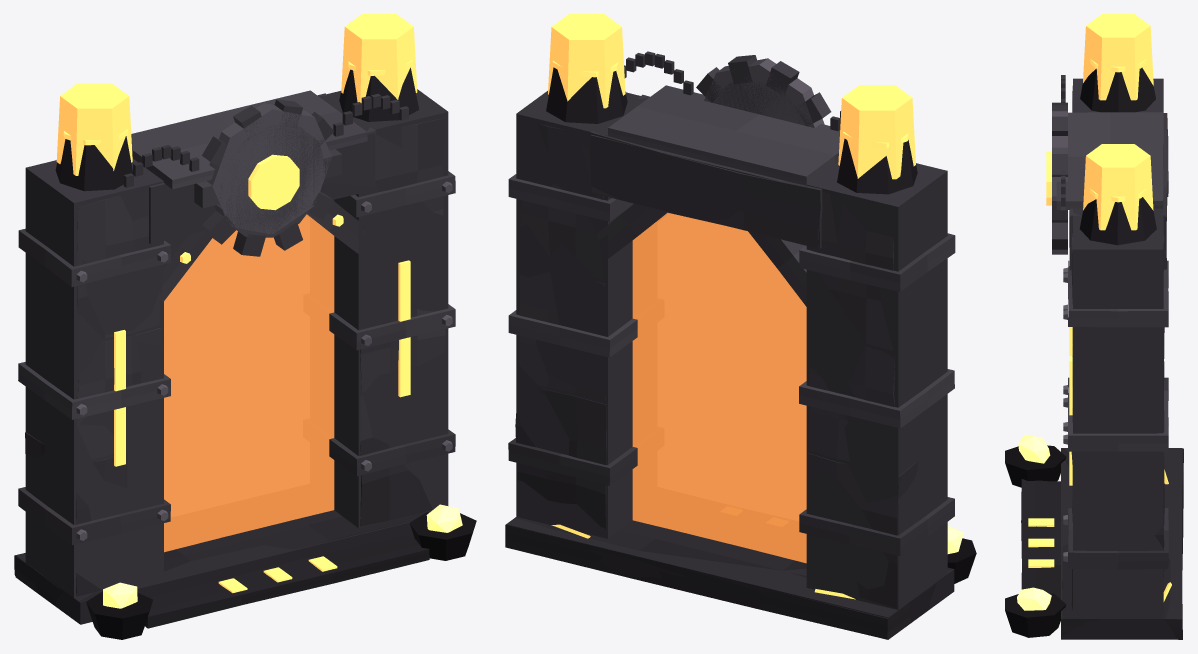
Rendered from portal_foundry.glb.
3 renders of one model, left to right at view 1: azimuth 30°, elevation 25°; view 2: azimuth 150°, elevation 25°; view 3: azimuth 270°, elevation 25°, orthographic. The views are drawn at different scales.
Visible parts, largest first — view 1: Far_Body, Surface_Far, Surface_Near, Pillar_L, Pillar_R, Base, Motif_Gear, Lintel, Motif_Braziers, Motif_Chains; view 2: Far_Body, Surface_Far, Surface_Near, Pillar_L, Pillar_R, Lintel, Base, Motif_Gear, Motif_Braziers, Motif_Chains; view 3: Far_Body, Pillar_R, Base, Lintel, Motif_Braziers, Pillar_L, Motif_Gear, Motif_Chains.
Part boxes in pixels (left/top/right/bottom): Far_Body: left=15, top=14, right=448, bottom=624; Surface_Far: left=164, top=214, right=334, bottom=551; Surface_Near: left=164, top=215, right=334, bottom=552; Pillar_L: left=18, top=129, right=170, bottom=596; Pillar_R: left=329, top=60, right=455, bottom=526; Base: left=14, top=510, right=431, bottom=628; Motif_Gear: left=194, top=99, right=341, bottom=256; Lintel: left=131, top=90, right=375, bottom=301; Motif_Braziers: left=86, top=504, right=476, bottom=639; Motif_Chains: left=123, top=93, right=408, bottom=187; Far_Body: left=506, top=14, right=954, bottom=639; Surface_Far: left=632, top=212, right=806, bottom=563; Surface_Near: left=632, top=213, right=806, bottom=562; Pillar_L: left=799, top=131, right=955, bottom=608; Pillar_R: left=508, top=60, right=637, bottom=528; Lintel: left=590, top=85, right=839, bottom=306; Base: left=505, top=517, right=952, bottom=639; Motif_Gear: left=696, top=55, right=831, bottom=126; Motif_Braziers: left=947, top=526, right=976, bottom=583; Motif_Chains: left=624, top=51, right=840, bottom=131; Far_Body: left=1052, top=14, right=1182, bottom=639; Pillar_R: left=1063, top=188, right=1168, bottom=609; Base: left=1021, top=448, right=1183, bottom=639; Lintel: left=1056, top=112, right=1168, bottom=270; Motif_Braziers: left=1005, top=435, right=1066, bottom=637; Pillar_L: left=1063, top=58, right=1168, bottom=431; Motif_Gear: left=1046, top=102, right=1067, bottom=254; Motif_Chains: left=1061, top=75, right=1065, bottom=220.
Bounding box in the file's own units: 2.57 × 3.17 × 1.11.
